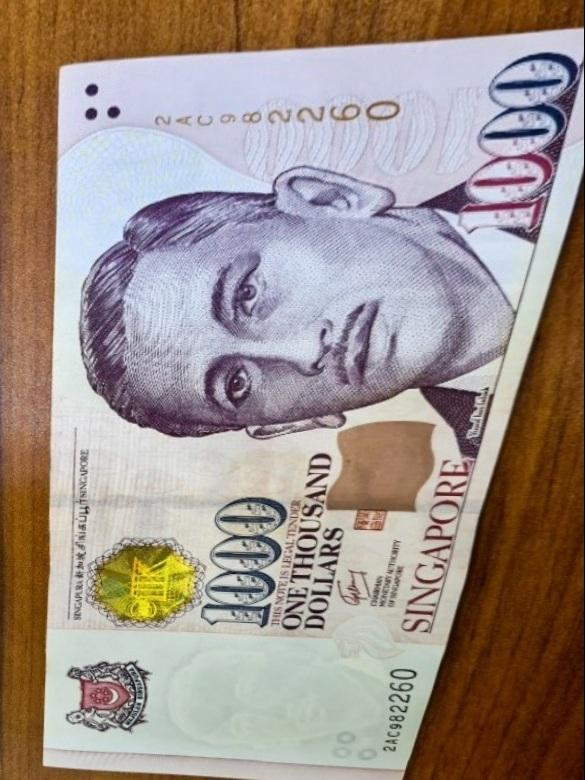1000SingaporeDollar: (67, 47, 573, 780)
